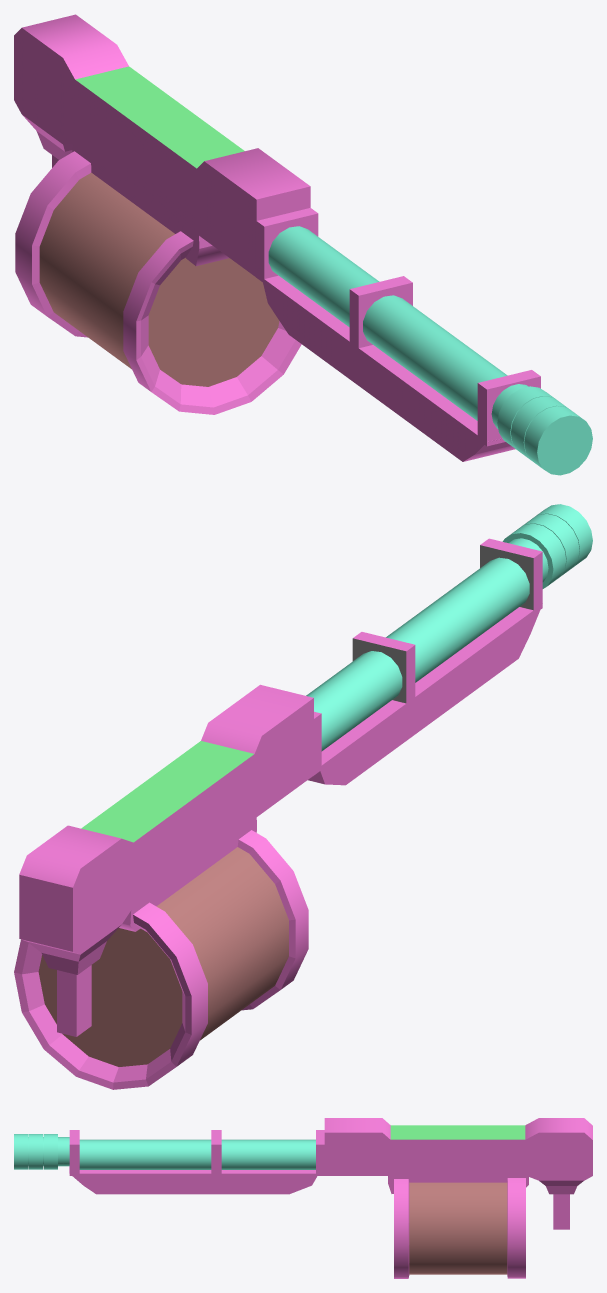
File: Batteuse.FBX
3 views of the same model, one above another, from view 1: azimuth 30°, elevation 25°; view 2: azimuth 150°, elevation 25°; view 3: azimuth 270°, elevation 25° (orthographic). The views are drawn at different scales.
Visible parts, largest first — view 1: Box017; view 2: Box017; view 3: Box017.
Part boxes in pixels (x1,y1,x2,y2): Box017: [14, 14, 592, 475]; Box017: [14, 504, 592, 1089]; Box017: [14, 1118, 592, 1278].
Size of the model in its own units: 393 by 559 by 1992.
